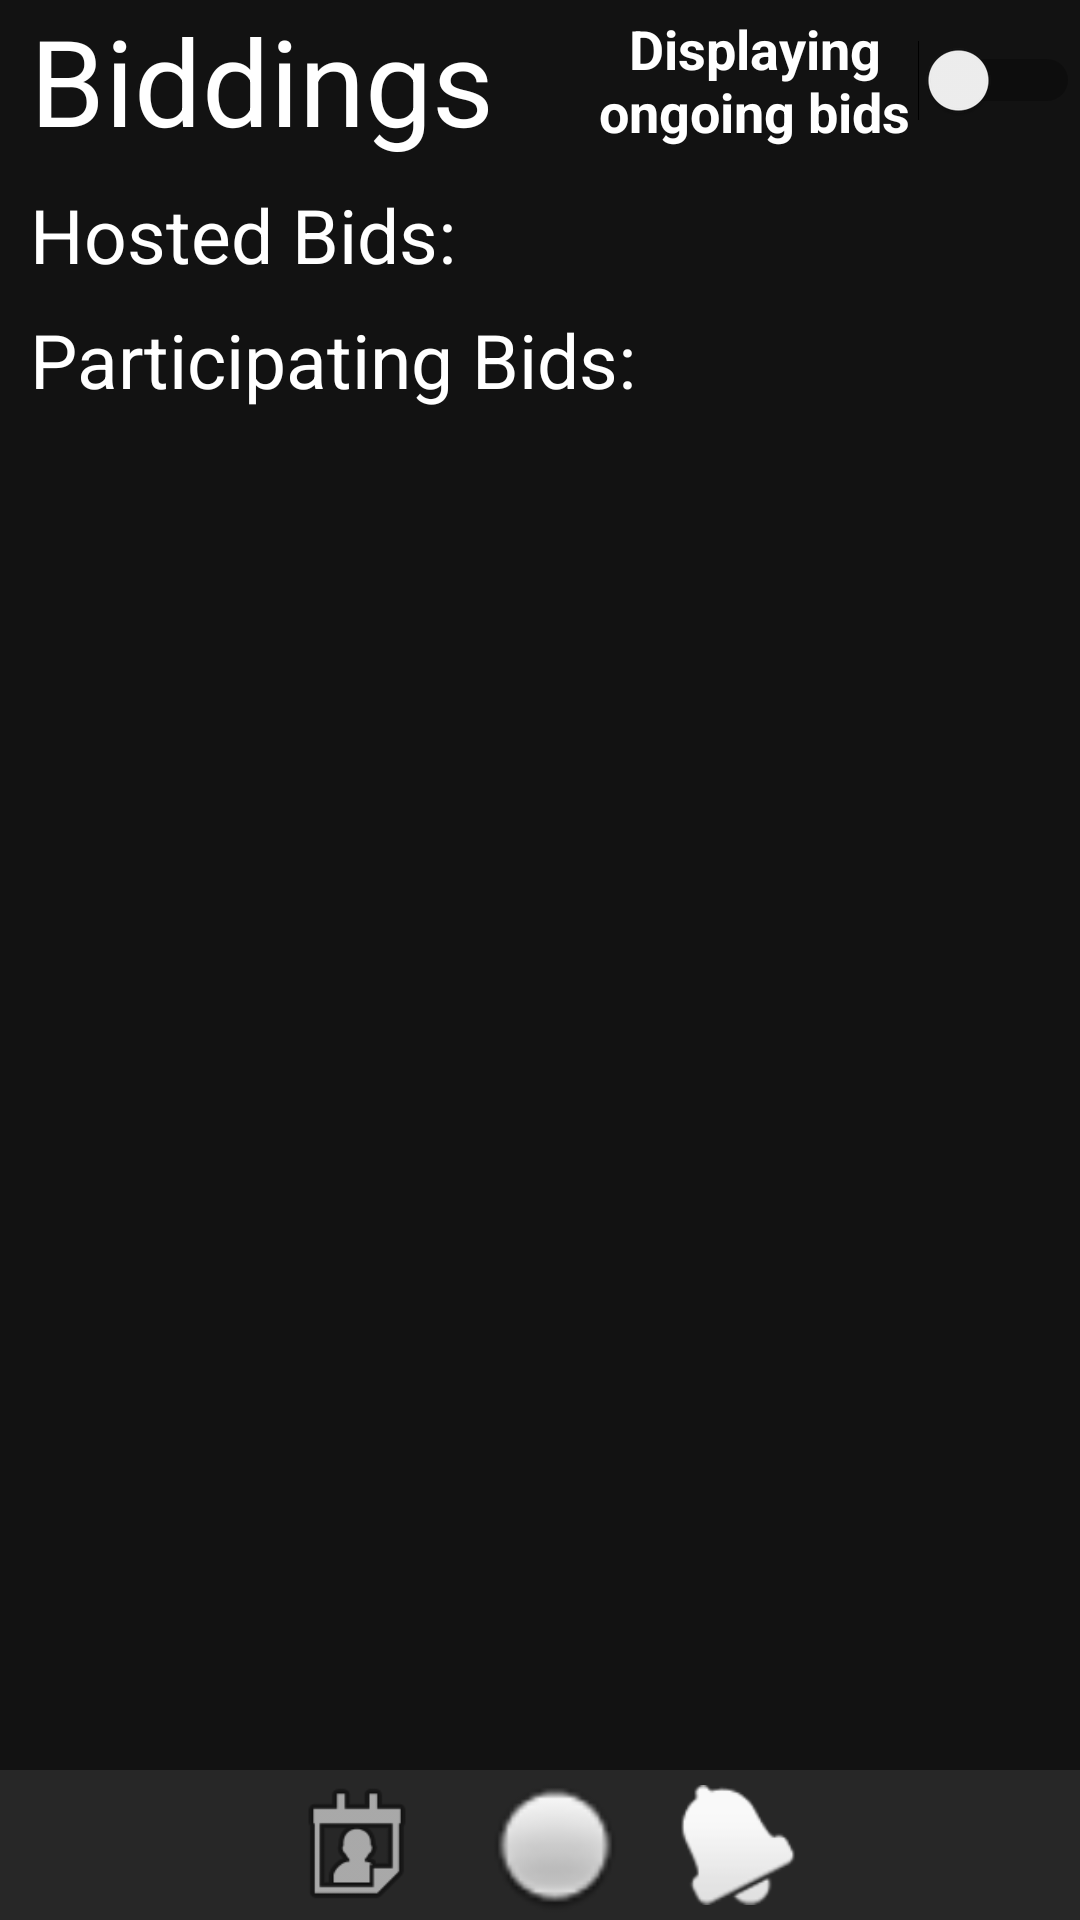

Icons on this 1080*1920 Android screen, each with its box as (x1, y1, x2, y2):
calendar: (313, 1793, 401, 1894)
popup reminder: (681, 1785, 795, 1905)
